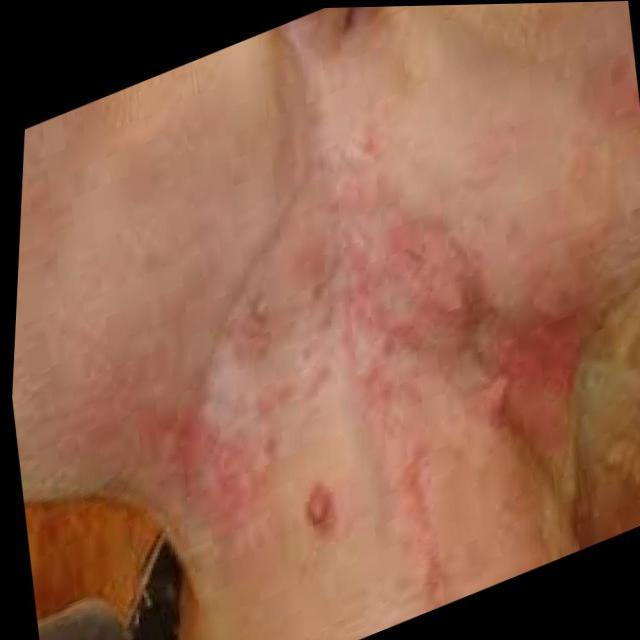allergic dermatitis: (336, 211, 486, 563), (119, 388, 269, 550), (481, 301, 569, 496)
